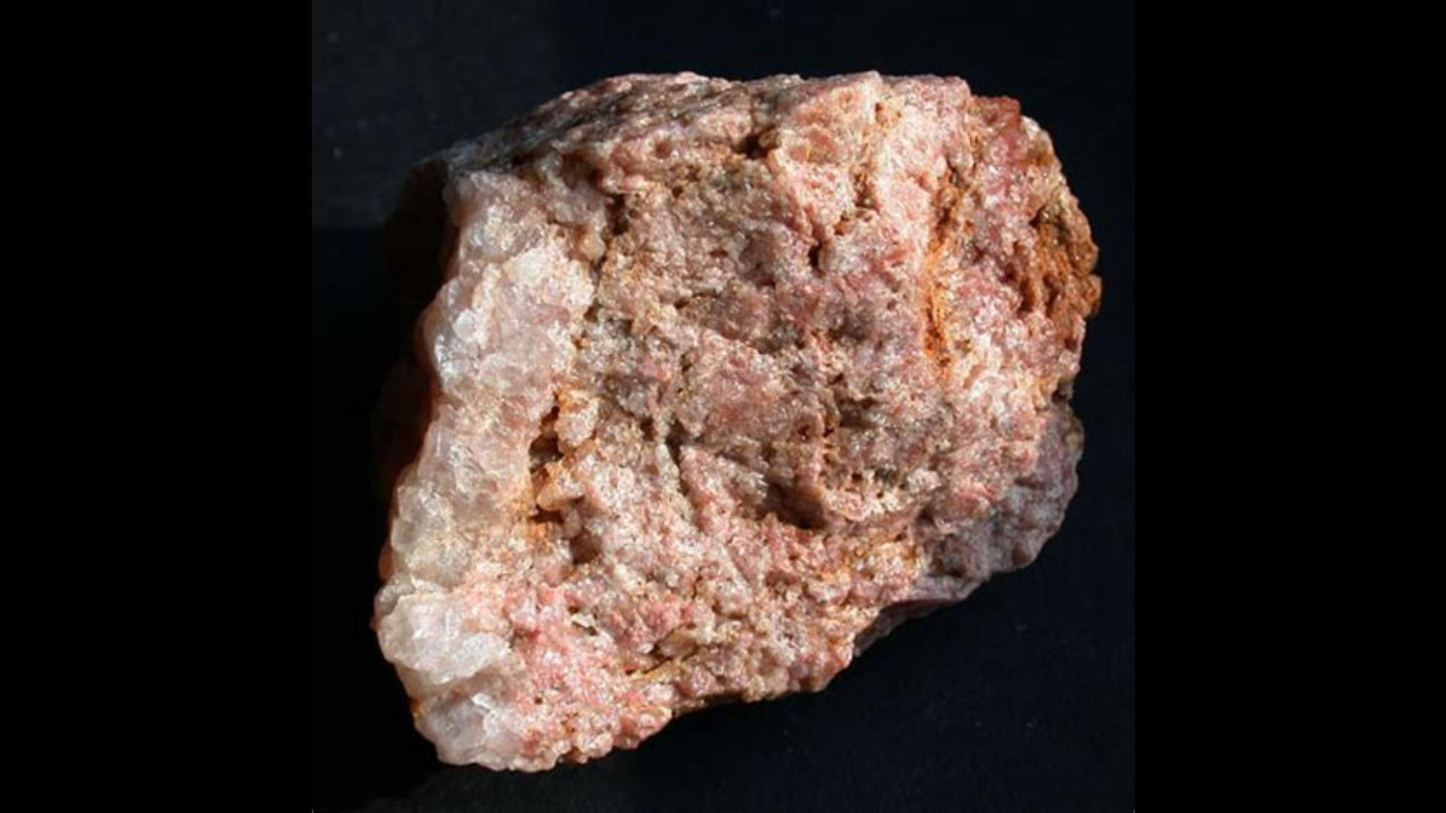rock: (375, 75, 1097, 766)
